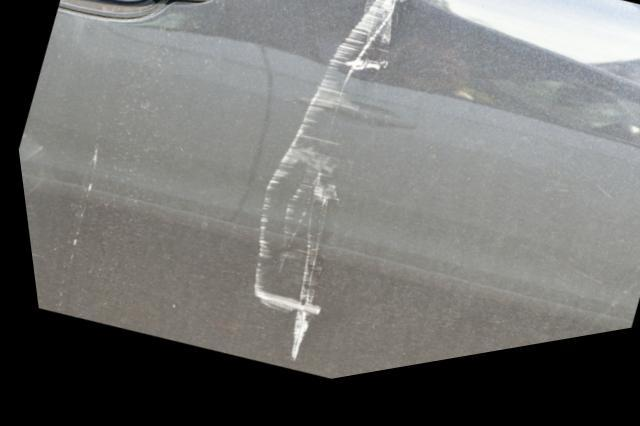scratch: (235, 0, 418, 370)
